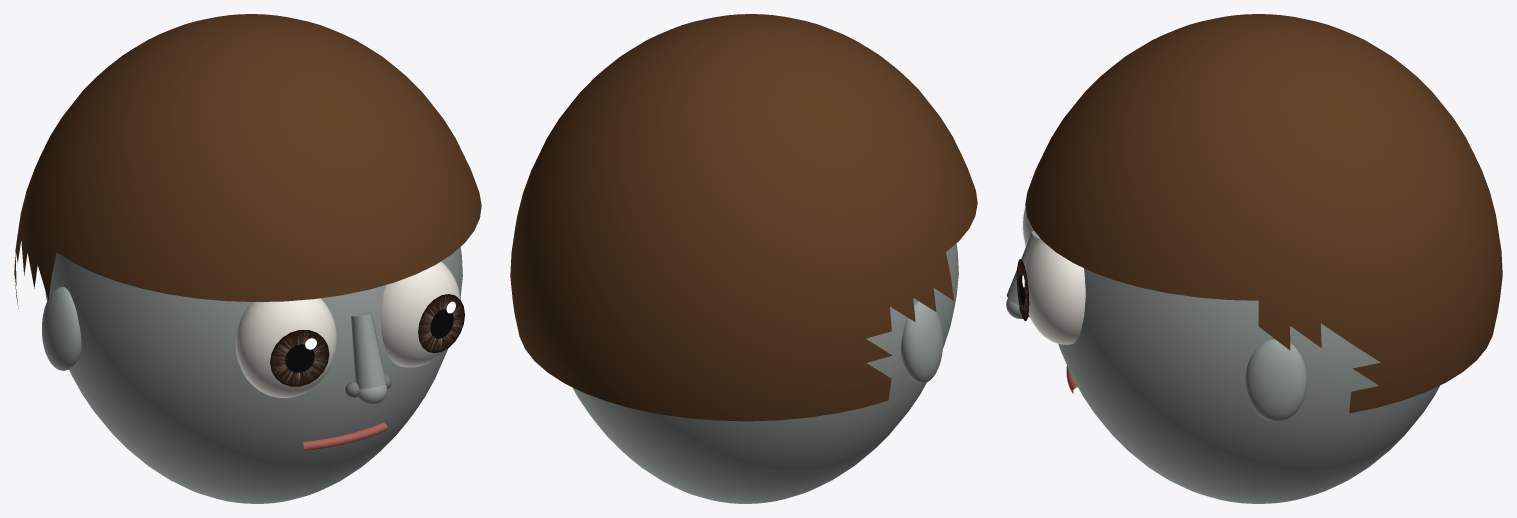
The model's file is autres-01-courts.glb.
3 views of the same model, side by side, from view 1: azimuth 30°, elevation 25°; view 2: azimuth 150°, elevation 25°; view 3: azimuth 270°, elevation 25° (orthographic).
Size of what is drawn, in the model's own units: 0.3205 by 0.341 by 0.3366.
Materials: 10 (1 with a texture image).
